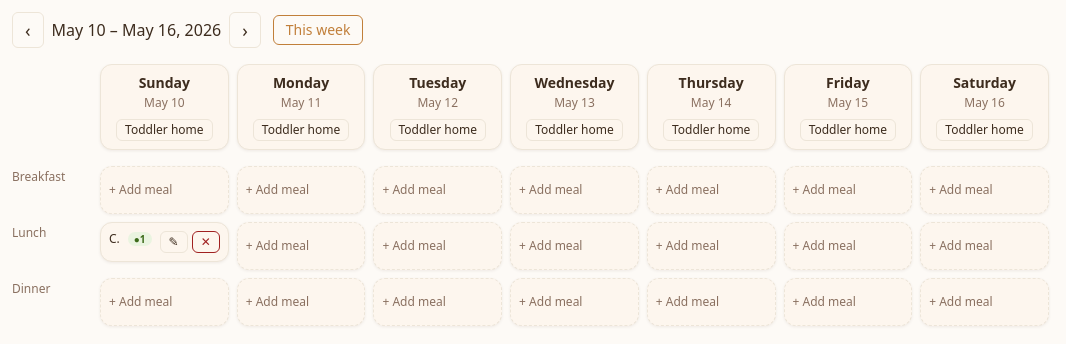
Test: Feature 001 sign-off — AC-005 week navigation › navigates prev, current, and next week with updated date range label
Expected: the text "May 10 – May 16, 2026" is shown, [52,18,221,42]
What coordinates should you click on to do the following:
click the button named "next week"
I would click on:
 (245, 30)
Its box is [229,12,261,48].
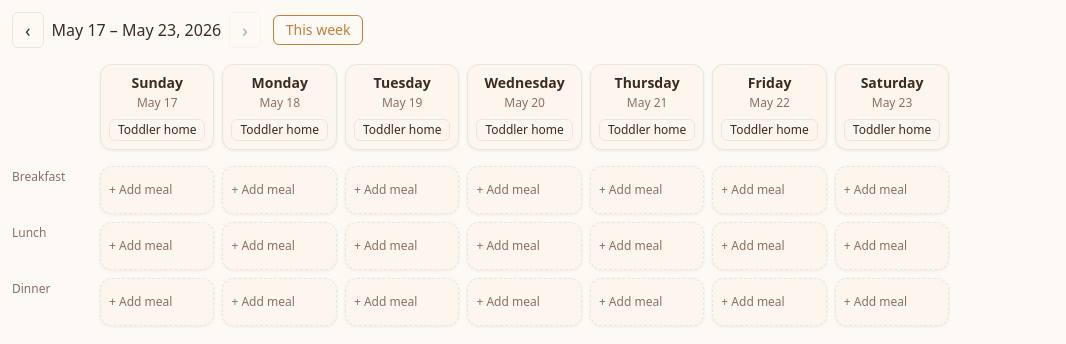
Expected: the text "May 17 – May 23, 2026" is shown, [52,18,221,42]
What coordinates should you click on to do the following:
click the button "This week"
I would click on:
 (318, 30)
Its box is [273,15,364,45].
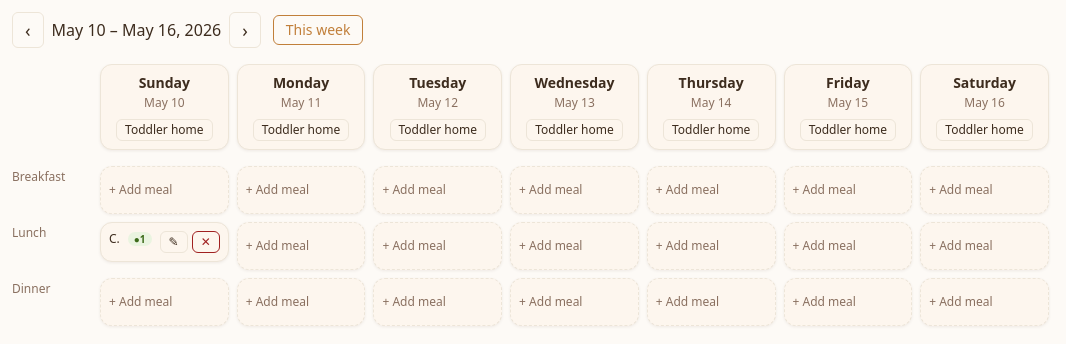
Expected: the text "May 10 – May 16, 2026" is shown, [52,18,221,42]
What coordinates should you click on to do the following:
click the button named "previous week"
I would click on:
 (28, 30)
Its box is [12,12,44,48].
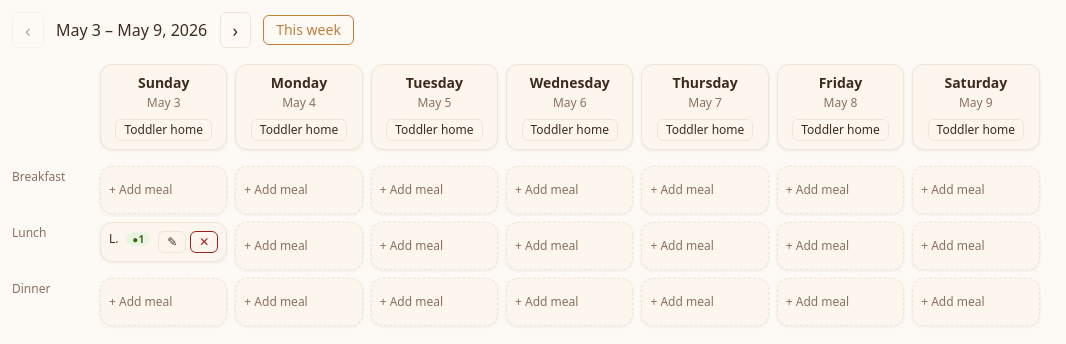
Expected: the text "May 3 – May 9, 2026" is shown, [52,18,212,42]
